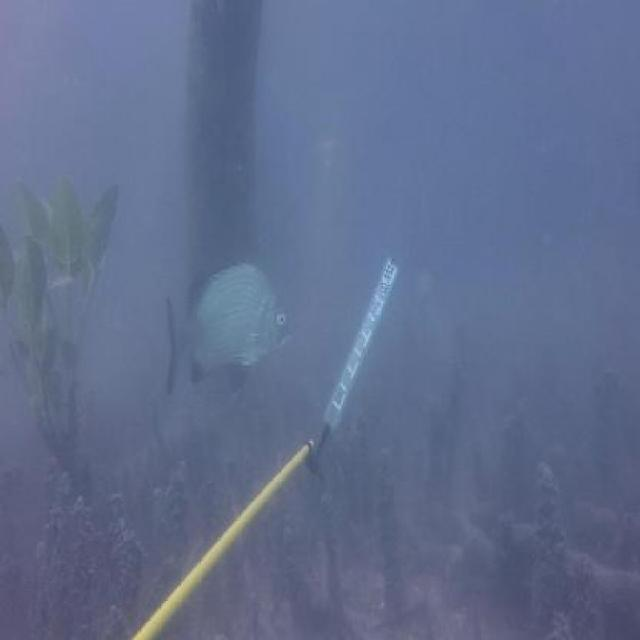acanthopagrus_palmaris: (162, 254, 298, 401)
